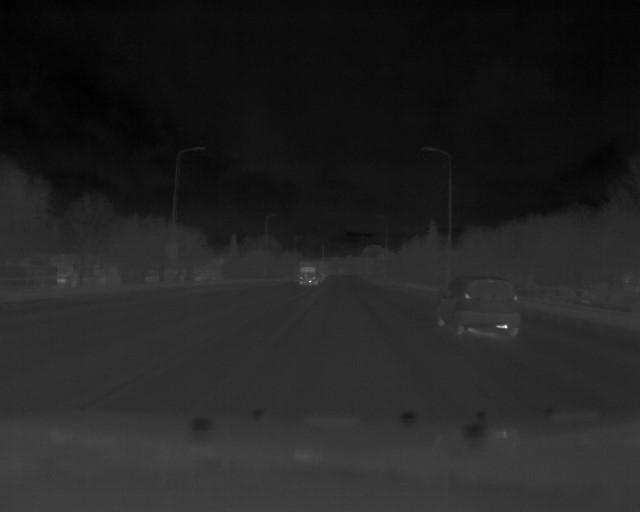car: (436, 276, 526, 342), (297, 263, 325, 289)
